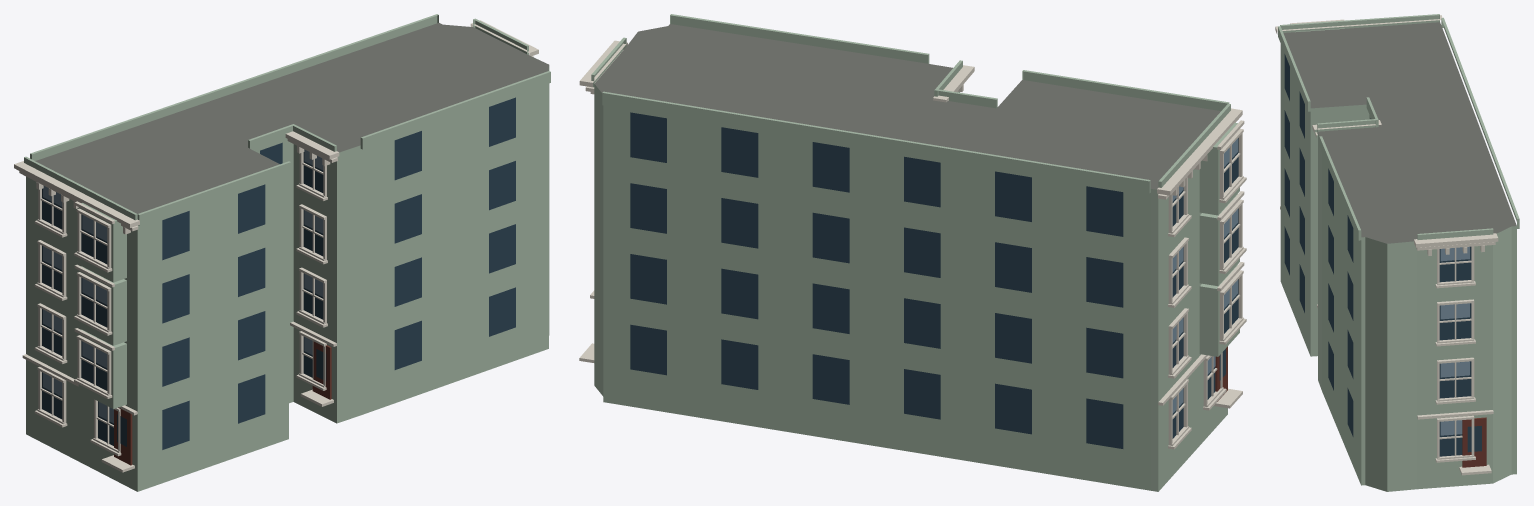
The picture shows the model from 3 angles, left to right: view 1: azimuth 30°, elevation 25°; view 2: azimuth 150°, elevation 25°; view 3: azimuth 270°, elevation 25°; orthographic projection. The views are drawn at different scales.
Visible parts, largest first — view 1: Footprint 0 / surface 2, Footprint 0 / surface 1, Inset glazing, Cornices and window frames, Facade bay volumes, Sky reflection panels, Storefronts and doors; view 2: Footprint 0 / surface 2, Footprint 0 / surface 1, Inset glazing, Facade bay volumes, Cornices and window frames, Sky reflection panels; view 3: Footprint 0 / surface 2, Footprint 0 / surface 1, Inset glazing, Cornices and window frames, Facade bay volumes, Sky reflection panels, Storefronts and doors.
Boxes of the visible parts, bbox=[...] form: Footprint 0 / surface 2: bbox=[26, 65, 549, 491]; Footprint 0 / surface 1: bbox=[35, 23, 548, 213]; Inset glazing: bbox=[42, 97, 515, 449]; Cornices and window frames: bbox=[14, 20, 538, 472]; Facade bay volumes: bbox=[24, 14, 550, 408]; Sky reflection panels: bbox=[43, 149, 323, 423]; Storefronts and doors: bbox=[114, 341, 331, 465]; Footprint 0 / surface 2: bbox=[594, 84, 1227, 491]; Footprint 0 / surface 1: bbox=[594, 24, 1220, 189]; Inset glazing: bbox=[630, 112, 1238, 448]; Facade bay volumes: bbox=[591, 14, 1239, 356]; Cornices and window frames: bbox=[579, 40, 1246, 449]; Sky reflection panels: bbox=[1172, 138, 1237, 413]; Footprint 0 / surface 2: bbox=[1280, 44, 1516, 491]; Footprint 0 / surface 1: bbox=[1283, 22, 1516, 243]; Inset glazing: bbox=[1284, 54, 1481, 456]; Cornices and window frames: bbox=[1275, 15, 1498, 475]; Facade bay volumes: bbox=[1278, 14, 1519, 240]; Sky reflection panels: bbox=[1440, 246, 1469, 435]; Storefronts and doors: bbox=[1462, 417, 1486, 467].
Size of the model in its own units: 24.19 by 12.57 by 10.9.
